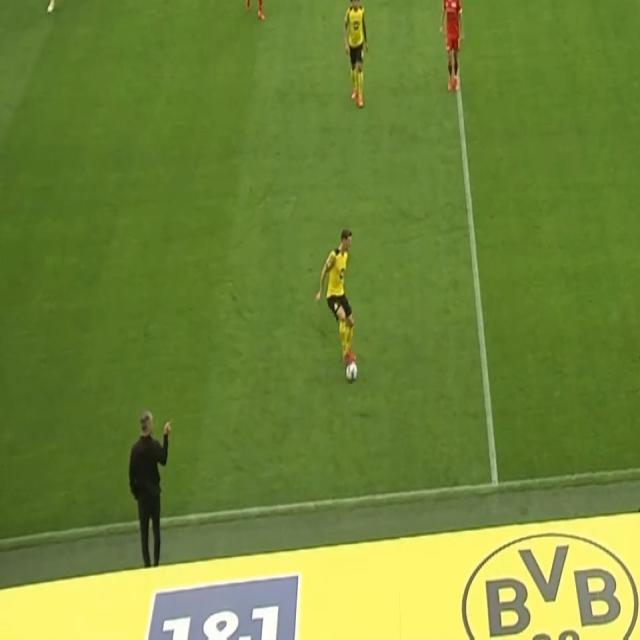ball: (345, 359, 358, 386)
